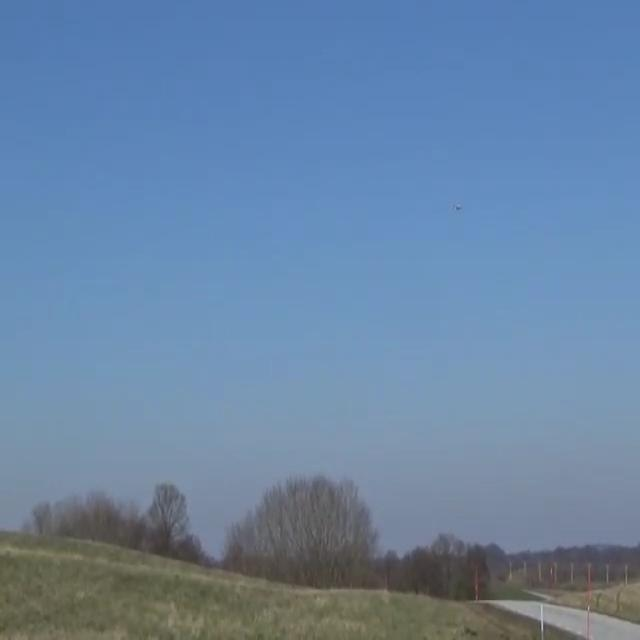AirPlane: (446, 190, 474, 223)
